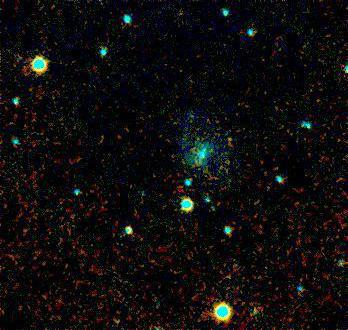star: (216, 125, 246, 155)
